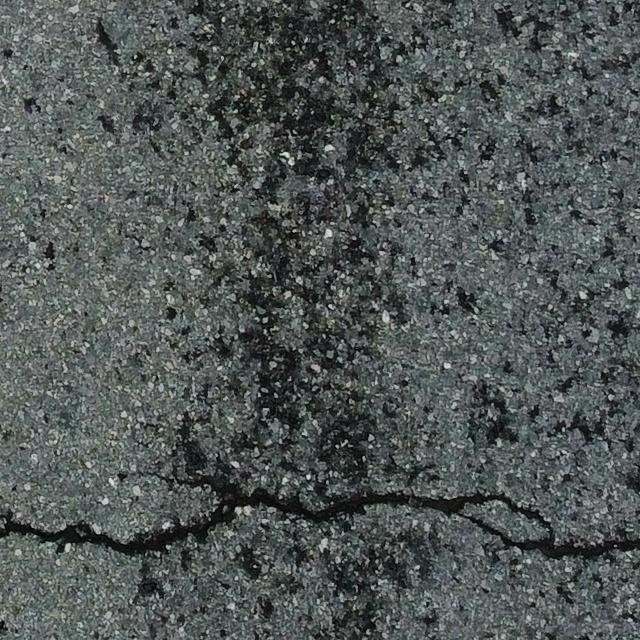TransverseCrack: (1, 472, 640, 561)
